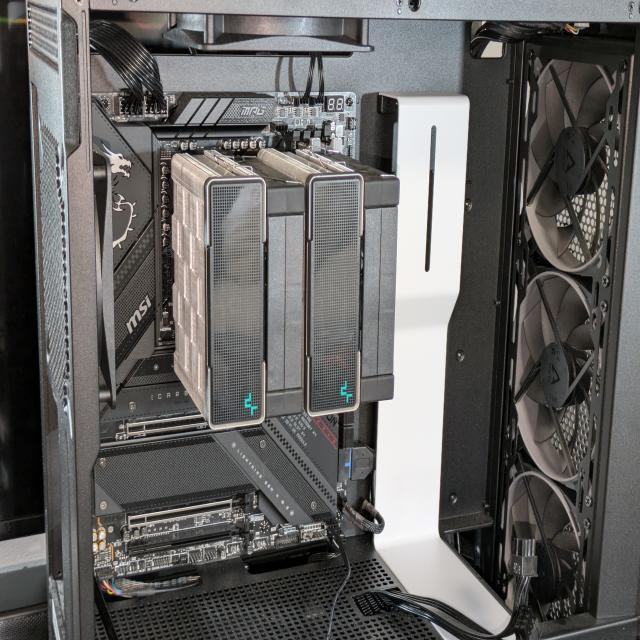CPU_Fan: (171, 148, 401, 432)
Mainboard: (90, 94, 357, 586)
